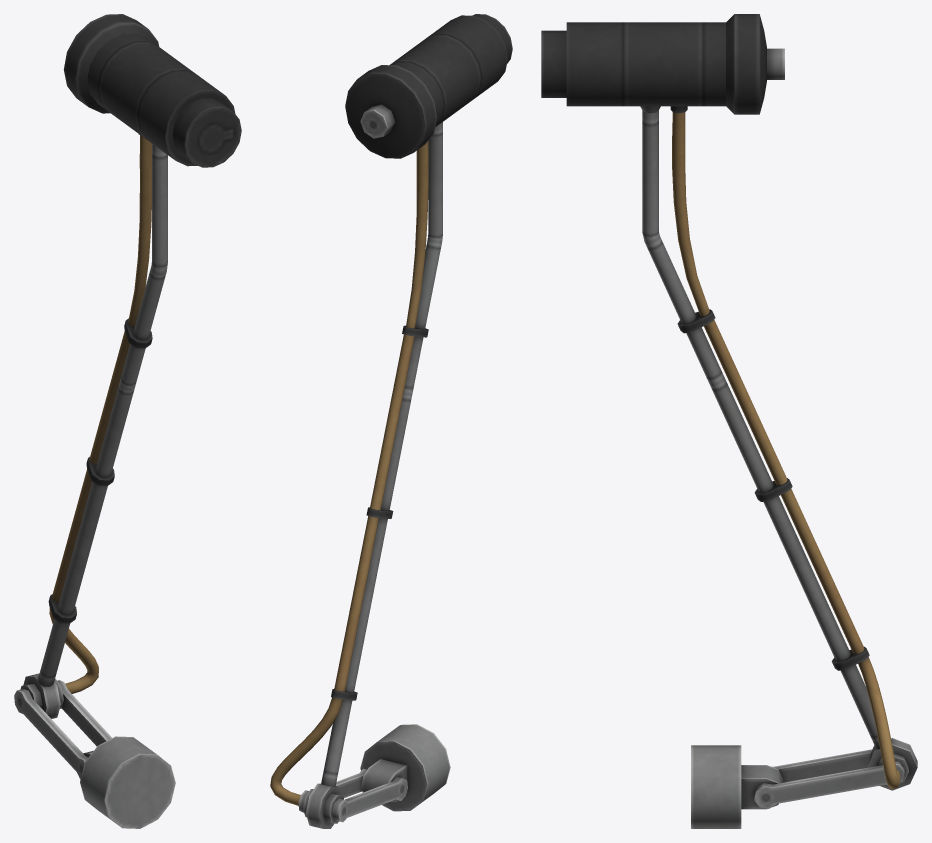
File: sample_return.obj
The picture shows the model from 3 angles, left to right: view 1: azimuth 30°, elevation 25°; view 2: azimuth 150°, elevation 25°; view 3: azimuth 270°, elevation 25°; orthographic projection. The views are drawn at different scales.
Parts seen in each view (by area): view 1: 1, rot1, base1; view 2: 1, rot1, base1; view 3: 1, base1, rot1.
Part boxes in pixels (x1=…): 1: x1=23, y1=14, x2=241, y2=718; rot1: x1=80, y1=736, x2=175, y2=828; base1: x1=14, y1=678, x2=111, y2=779; 1: x1=270, y1=14, x2=512, y2=828; rot1: x1=360, y1=724, x2=450, y2=811; base1: x1=298, y1=759, x2=407, y2=823; 1: x1=541, y1=14, x2=917, y2=790; base1: x1=741, y1=749, x2=908, y2=809; rot1: x1=691, y1=745, x2=741, y2=828.
Size of the model in its own units: 0.1742 by 1.33 by 0.56.
1 material, 1 textured.
